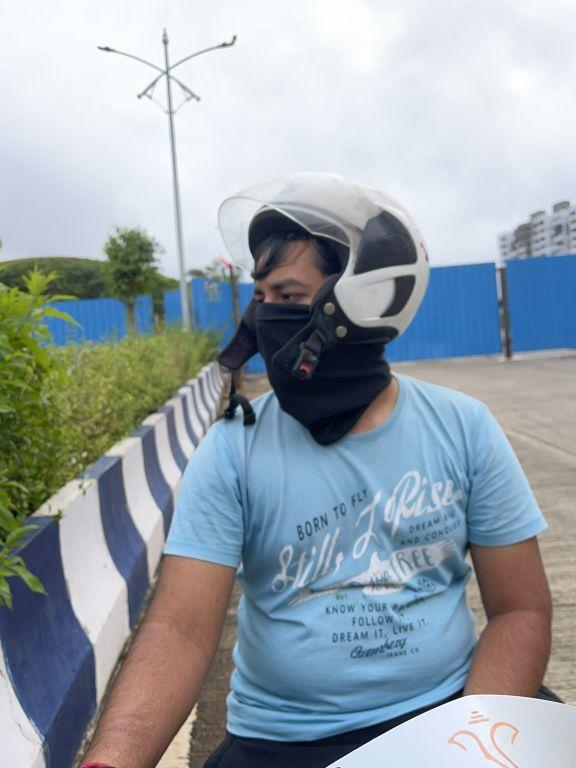helmet: (214, 165, 440, 437)
